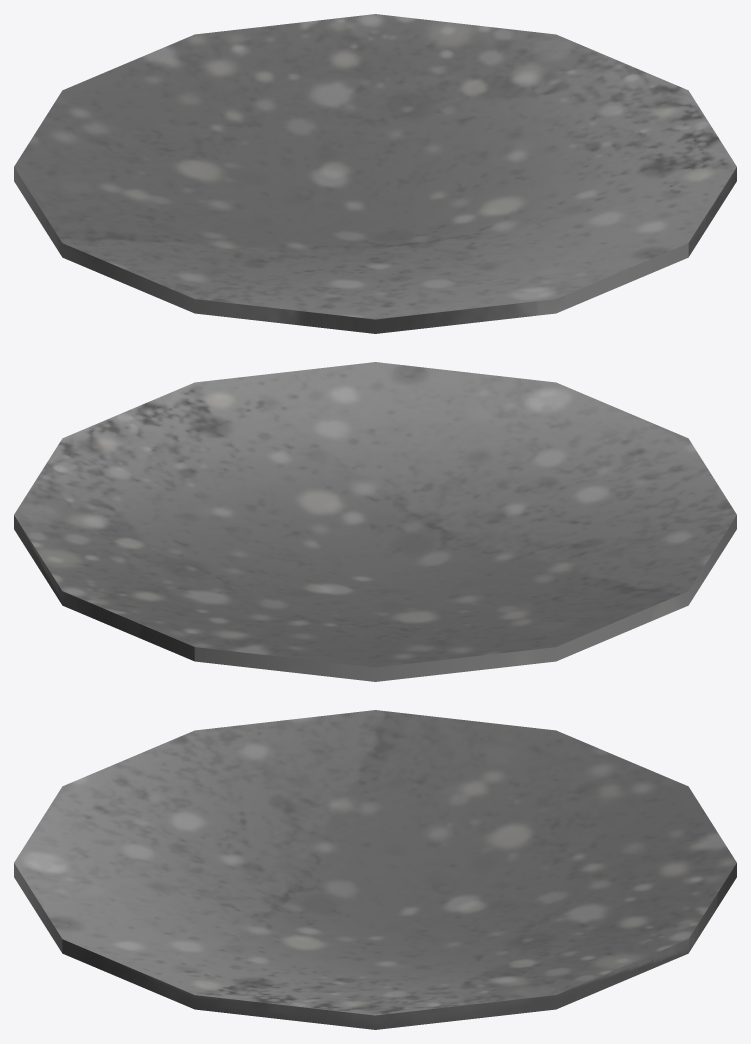
Rendered from PlateBig.fbx.
The picture shows the model from 3 angles, top to bottom: view 1: azimuth 30°, elevation 25°; view 2: azimuth 150°, elevation 25°; view 3: azimuth 270°, elevation 25°; orthographic projection.
Parts seen in each view (by area): view 1: PlateBig; view 2: PlateBig; view 3: PlateBig.
Part boxes in pixels (x1,y1,x2,y2): PlateBig: (14, 14, 736, 333); PlateBig: (14, 362, 736, 681); PlateBig: (14, 710, 736, 1029).
Size of the model in its own units: 0.5895 by 0.0505 by 0.5895.
